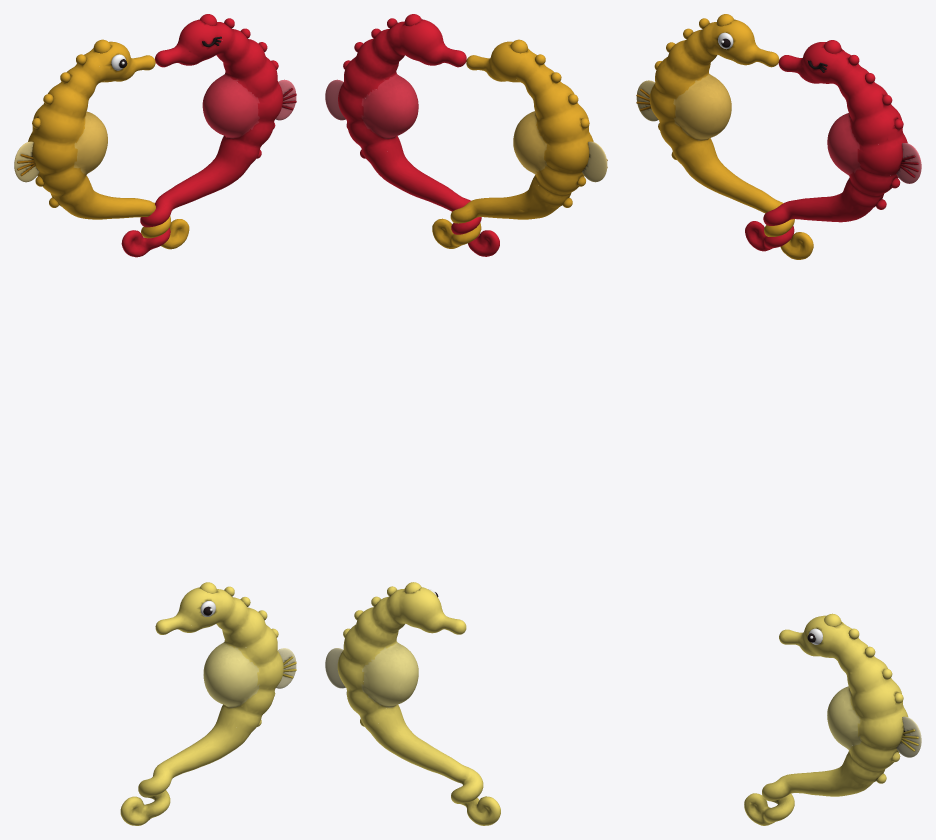
Rendered from jag-alskar-dig.glb.
The picture shows the model from 3 angles, left to right: view 1: azimuth 30°, elevation 25°; view 2: azimuth 150°, elevation 25°; view 3: azimuth 330°, elevation 25°; orthographic projection.
Visible parts, largest first — view 1: amarelinha__r0, ela__r0, ele__r0, ele__r7; view 2: amarelinha__r0, ela__r0, ele__r0, ele__r7; view 3: amarelinha__r0, ele__r0, ela__r0, ela__r7, amarelinha__r7.
Boxes of the visible parts, <box> form: amarelinha__r0: <box>120,587,283,825</box>; ela__r0: <box>121,19,282,257</box>; ele__r0: <box>28,41,189,249</box>; ele__r7: <box>14,141,39,182</box>; amarelinha__r0: <box>337,587,500,825</box>; ela__r0: <box>338,19,499,256</box>; ele__r0: <box>432,41,593,248</box>; ele__r7: <box>582,141,607,182</box>; amarelinha__r0: <box>744,615,908,825</box>; ele__r0: <box>649,19,813,259</box>; ela__r0: <box>745,42,907,251</box>; ela__r7: <box>896,143,921,183</box>; amarelinha__r7: <box>896,716,921,757</box>.
Size of the model in its own units: 2.51 by 6.76 by 0.4203.
